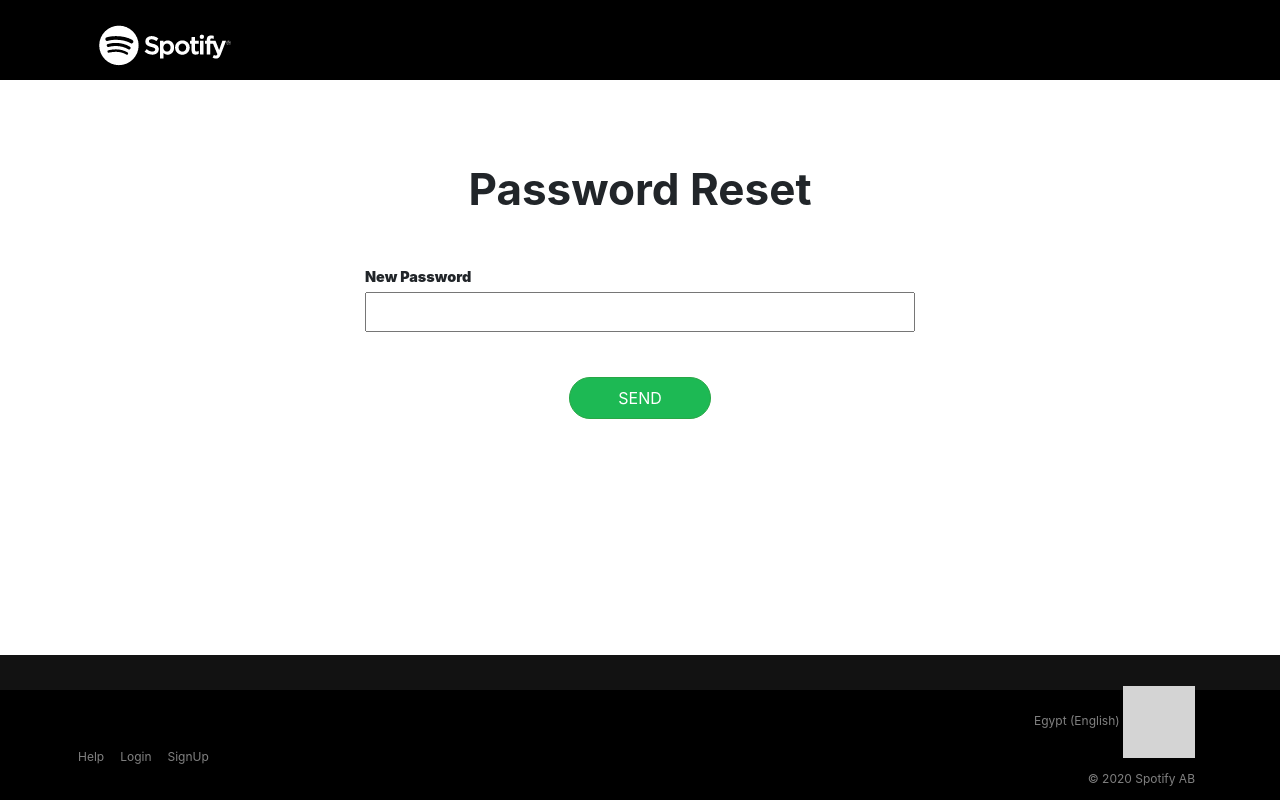
Create New Password input validation Container test › Should not be less than 6 characters
This screenshot has width=1280, height=800.
Click the button "SEND".
click(640, 398)  # box x1=569 y1=377 x2=711 y2=419
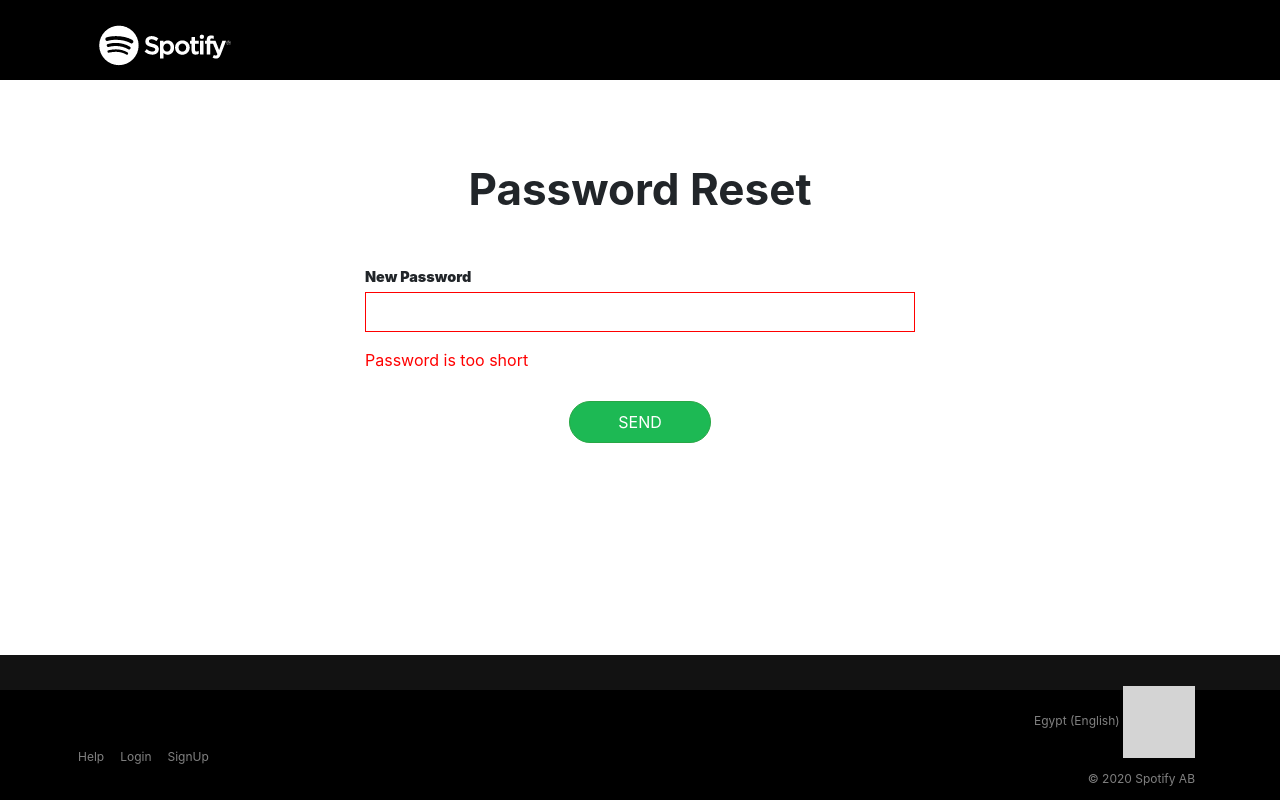
Now the text with id "empty-input" reads "Password is too short", box x1=365 y1=350 x2=528 y2=370
